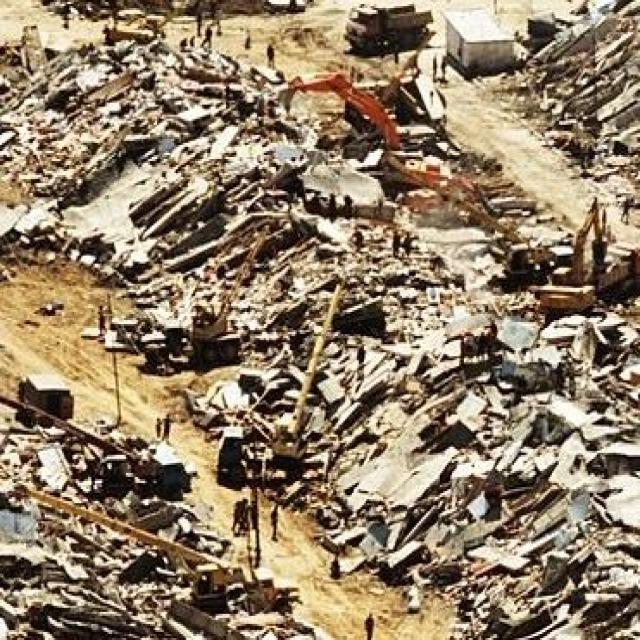collapsed_building: (156, 6, 638, 592)
